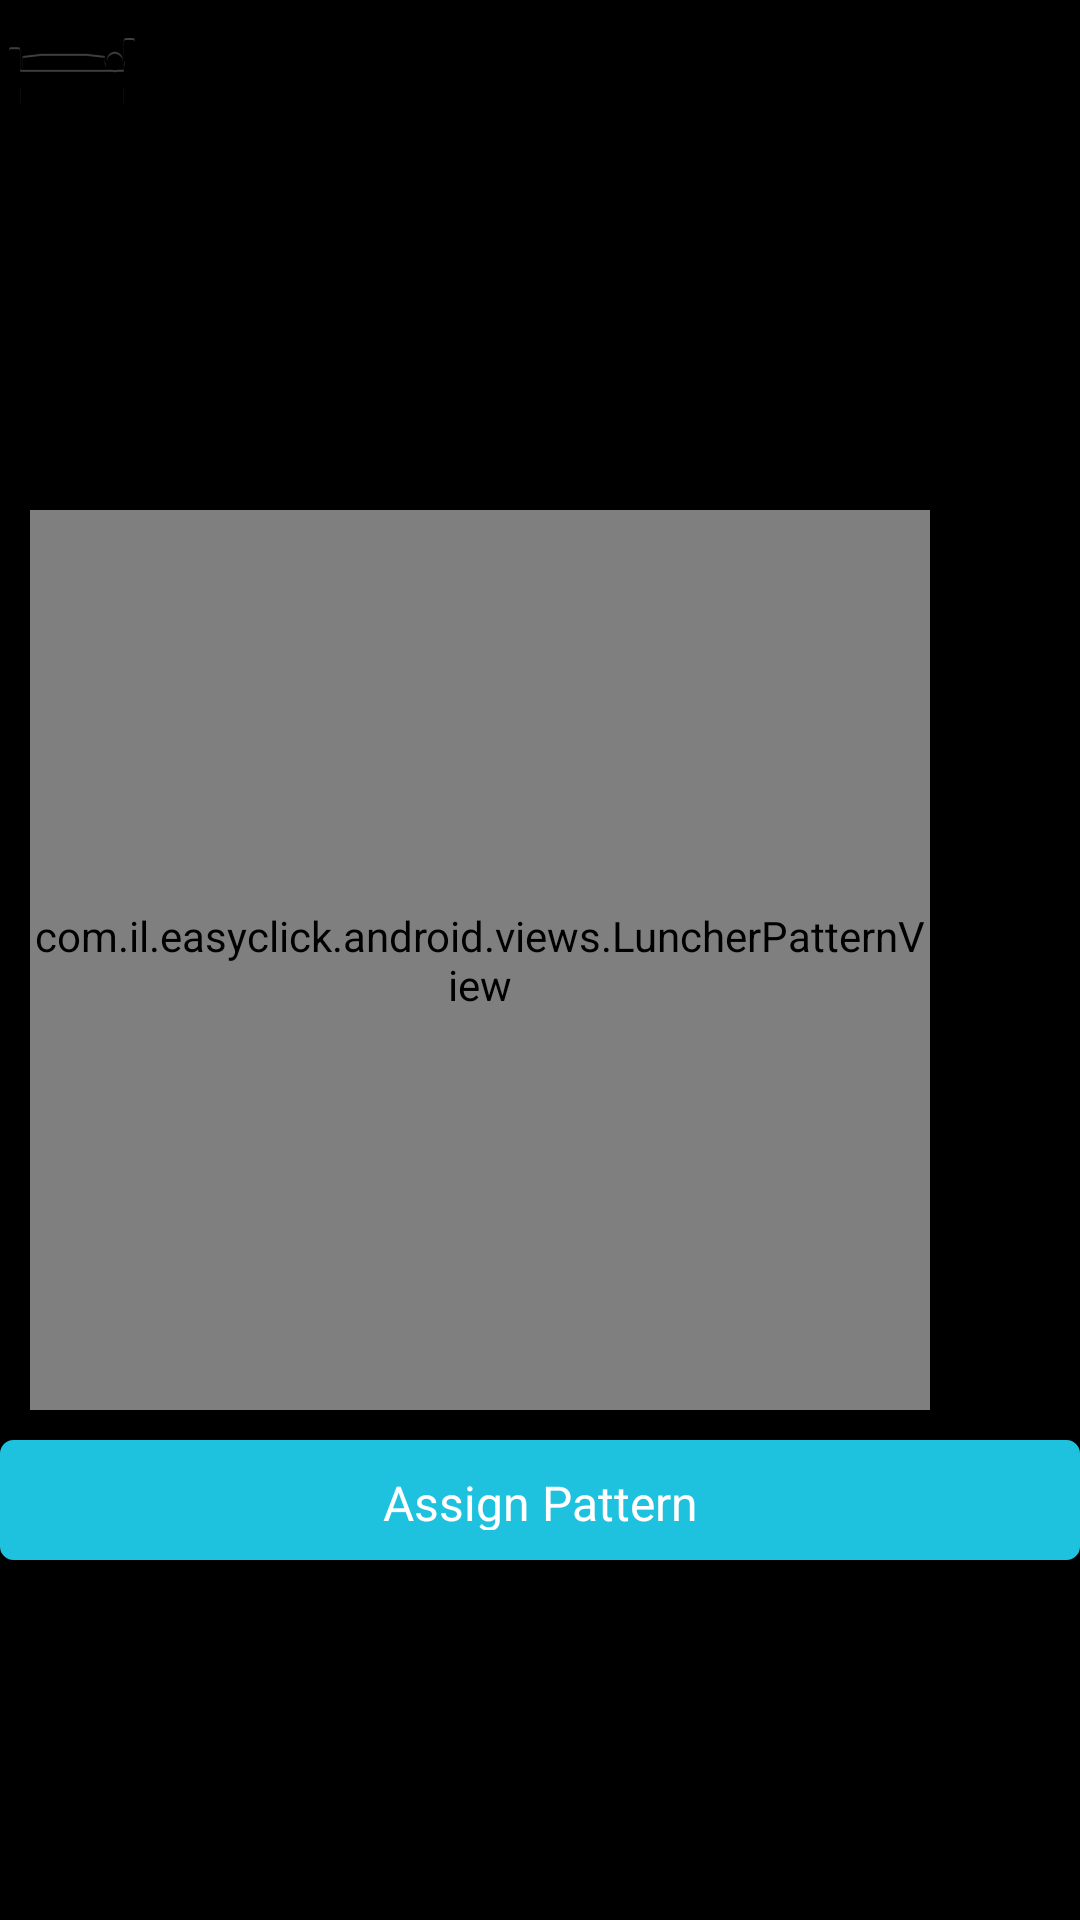

Screen size 1080 x 1920. Icon name, then its center in pixels as [x,y]:
bed: [72,55]
